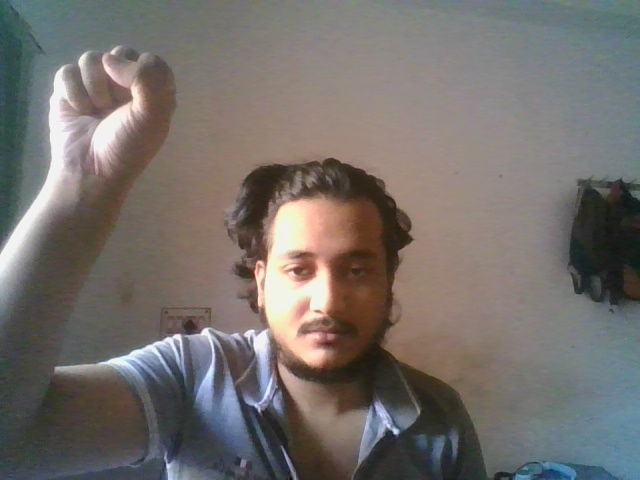Close: (46, 43, 180, 181)
